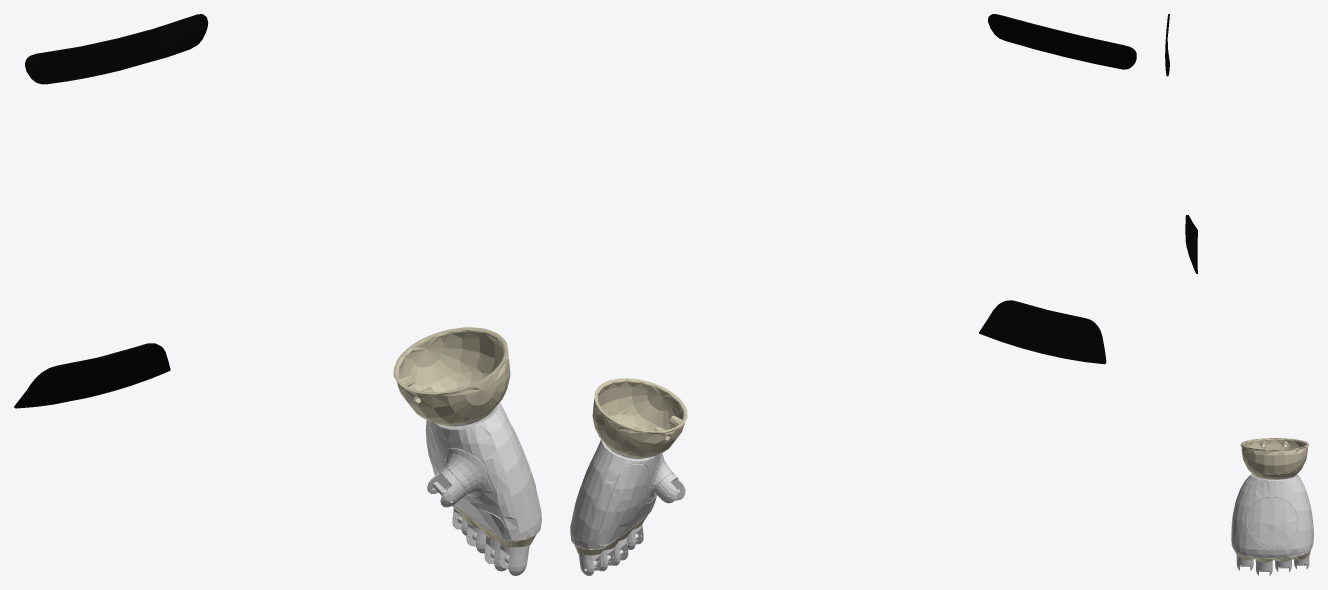
The model's file is walker_left_hand_palm.dae.
3 renders of one model, left to right at view 1: azimuth 30°, elevation 25°; view 2: azimuth 150°, elevation 25°; view 3: azimuth 270°, elevation 25°, orthographic. The views are drawn at different scales.
Visible parts, largest first — view 1: Shape_IndexedFaceSet_198, Shape_IndexedFaceSet_232, Shape_IndexedFaceSet_197; view 2: Shape_IndexedFaceSet_232, Shape_IndexedFaceSet_198, Shape_IndexedFaceSet_197; view 3: Shape_IndexedFaceSet_198, Shape_IndexedFaceSet_197, Shape_IndexedFaceSet_232.
Part boxes in pixels (x1,y1,x2,y2): Shape_IndexedFaceSet_198: (425,402,541,575); Shape_IndexedFaceSet_232: (14,14,208,408); Shape_IndexedFaceSet_197: (393,327,536,547); Shape_IndexedFaceSet_232: (979,14,1136,364); Shape_IndexedFaceSet_198: (570,439,685,575); Shape_IndexedFaceSet_197: (574,378,687,555); Shape_IndexedFaceSet_198: (1231,474,1313,575); Shape_IndexedFaceSet_197: (1234,438,1310,562); Shape_IndexedFaceSet_232: (1165,14,1197,273).
Size of the model in its own units: 0.4899 by 0.1855 by 0.5603.
